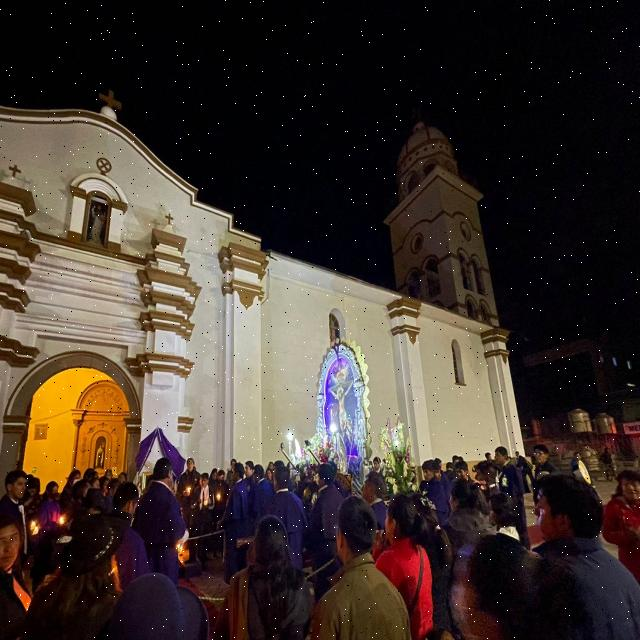CAMPANARIO: (368, 170, 520, 321)
CUPULA: (384, 120, 468, 205)
PORTADA CENTRAL: (8, 354, 146, 600)
TORRES: (391, 95, 536, 531)
colonial-architecture-: (0, 13, 608, 538)
